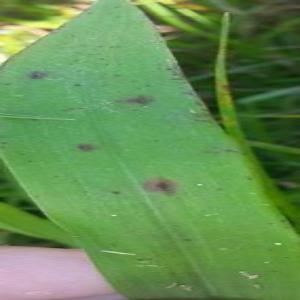Brown_Spot: (137, 172, 181, 199), (111, 91, 158, 108), (68, 138, 102, 155), (25, 68, 50, 83), (106, 187, 124, 198), (179, 234, 194, 247), (48, 171, 63, 181), (70, 80, 84, 90), (136, 256, 155, 263), (27, 115, 40, 125), (150, 136, 163, 146), (267, 267, 281, 275), (108, 44, 124, 51), (30, 192, 42, 201), (25, 158, 38, 166), (1, 80, 14, 88), (263, 219, 276, 227), (213, 186, 226, 194), (243, 174, 254, 183), (112, 13, 123, 22), (264, 245, 275, 254), (111, 3, 123, 11), (93, 43, 105, 51), (277, 216, 288, 224), (149, 22, 158, 31), (73, 67, 84, 74), (127, 78, 139, 84), (123, 51, 132, 59), (72, 57, 81, 64), (1, 139, 10, 146), (112, 73, 122, 79), (143, 83, 153, 89), (164, 66, 174, 72), (282, 254, 290, 261), (68, 32, 76, 39), (85, 10, 94, 16), (98, 57, 105, 62), (103, 62, 110, 67)
